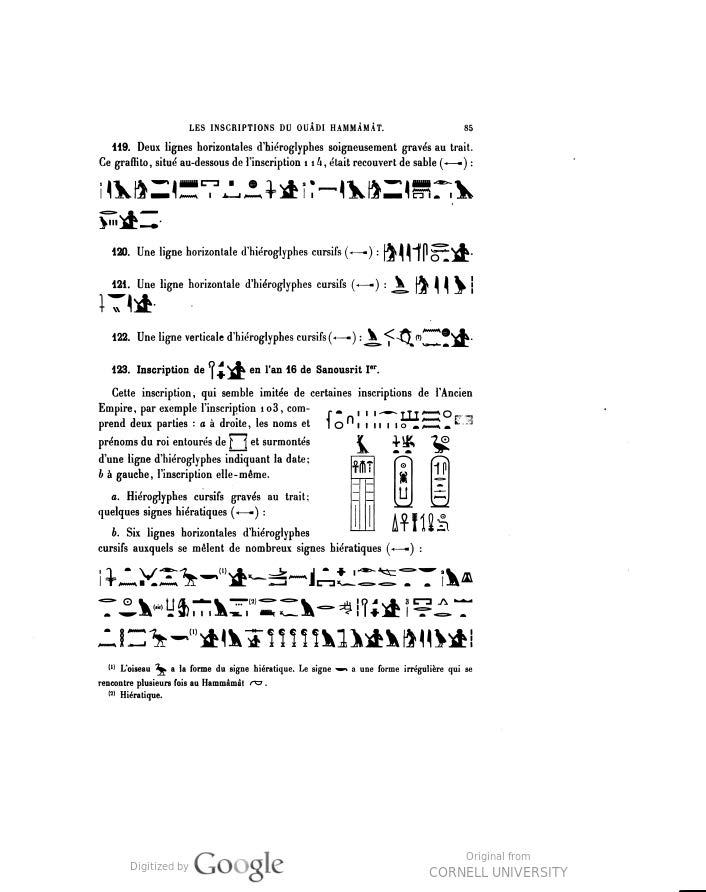circle: (384, 444, 425, 520), (425, 448, 459, 532)
